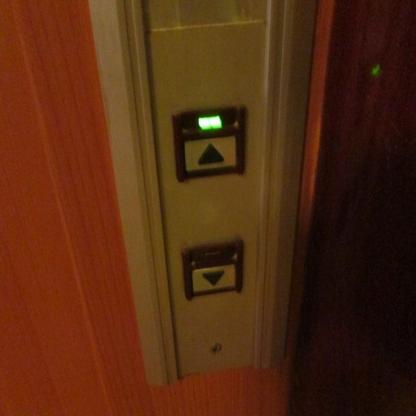down: (181, 241, 243, 300)
up: (171, 105, 246, 182)
